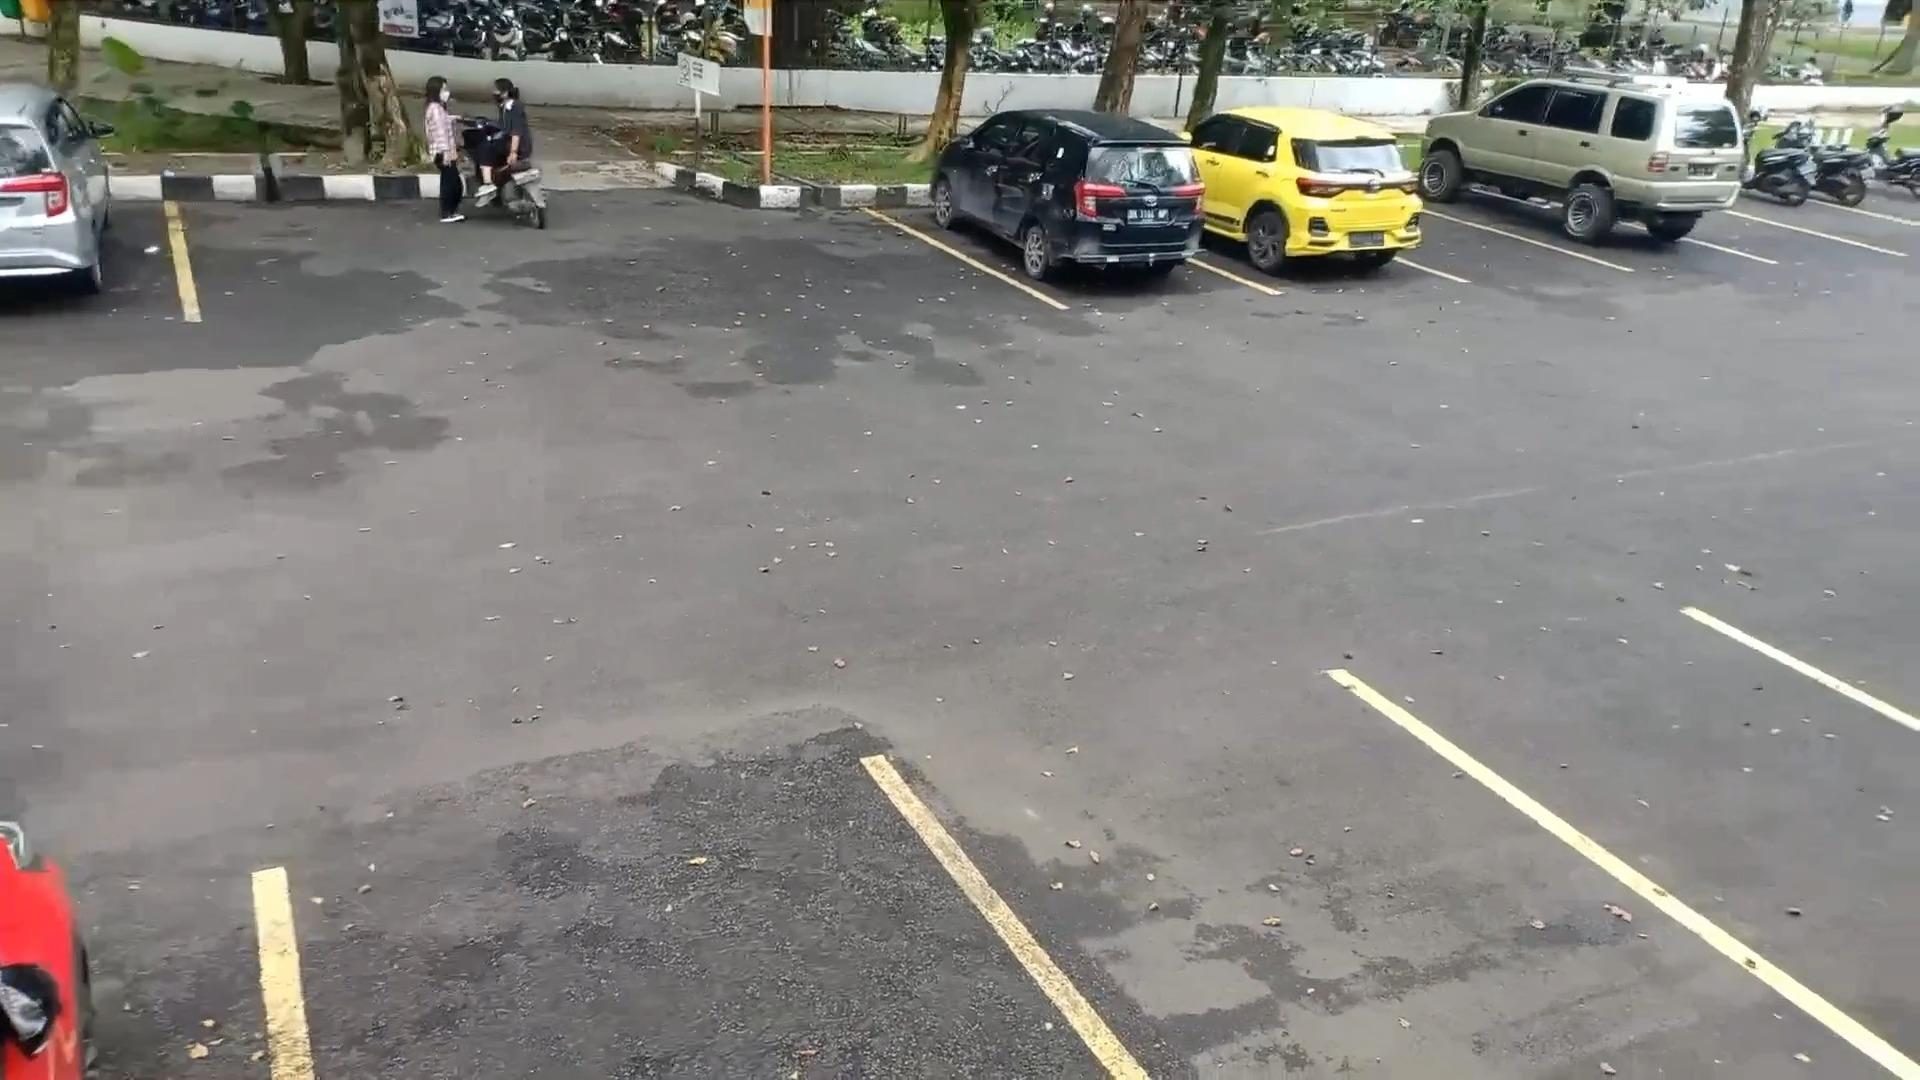empty: (908, 651, 1920, 1080), (231, 761, 1149, 1076), (1320, 605, 1920, 1080)
occupied: (1422, 97, 1741, 262), (927, 142, 1206, 308), (1206, 124, 1422, 296)
